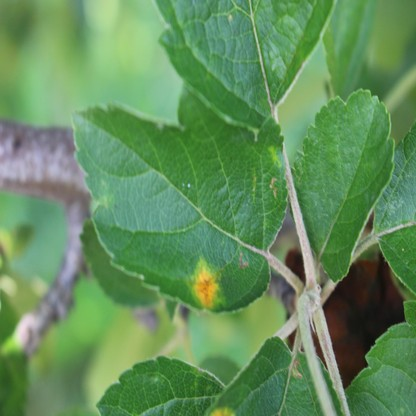rust: (187, 256, 222, 305), (210, 407, 234, 416)
